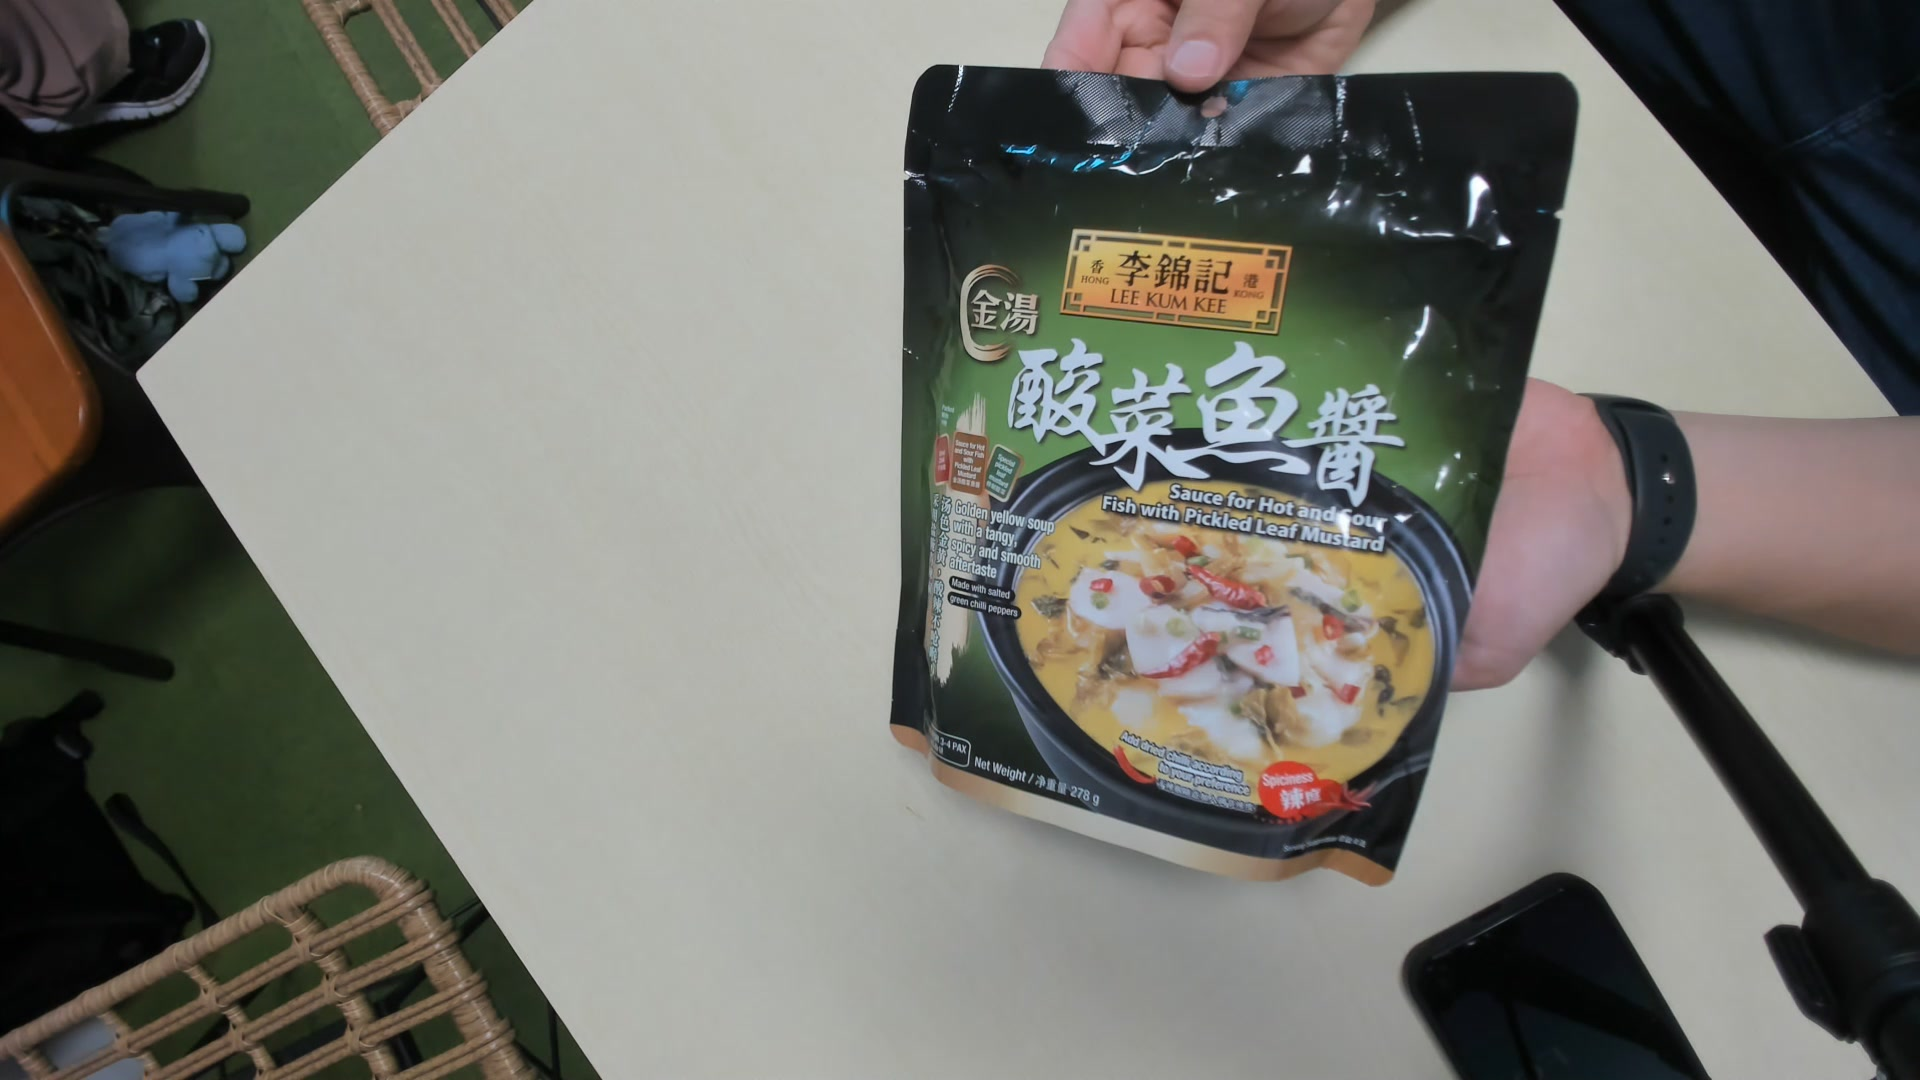OtherSauceDressing_200-299g_NonHalal_NonHealthy: (905, 69, 1568, 881)
